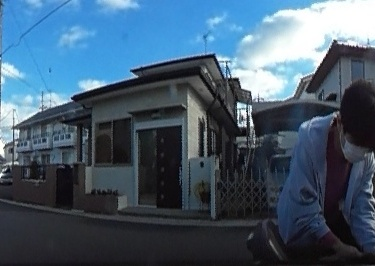person: (277, 78, 375, 262)
